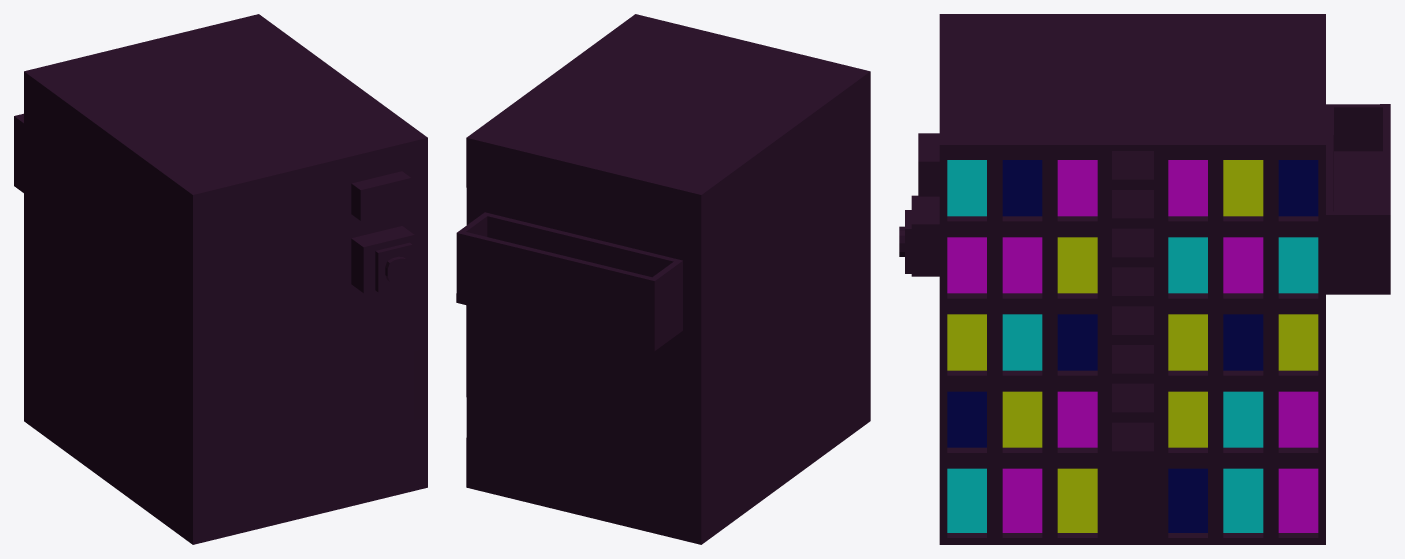
The model's file is block.fbx.
3 views of the same model, side by side, from view 1: azimuth 30°, elevation 25°; view 2: azimuth 150°, elevation 25°; view 3: azimuth 270°, elevation 25° (orthographic). The views are drawn at different scales.
Visible parts, largest first — view 1: Block; view 2: Block; view 3: Block.
Boxes of the visible parts, x1,y1,x2,y2 form: Block: (14,14,427,544); Block: (456,14,870,544); Block: (899,14,1390,544).
Bounding box in the file's own units: 1243 × 1713 × 1908.
